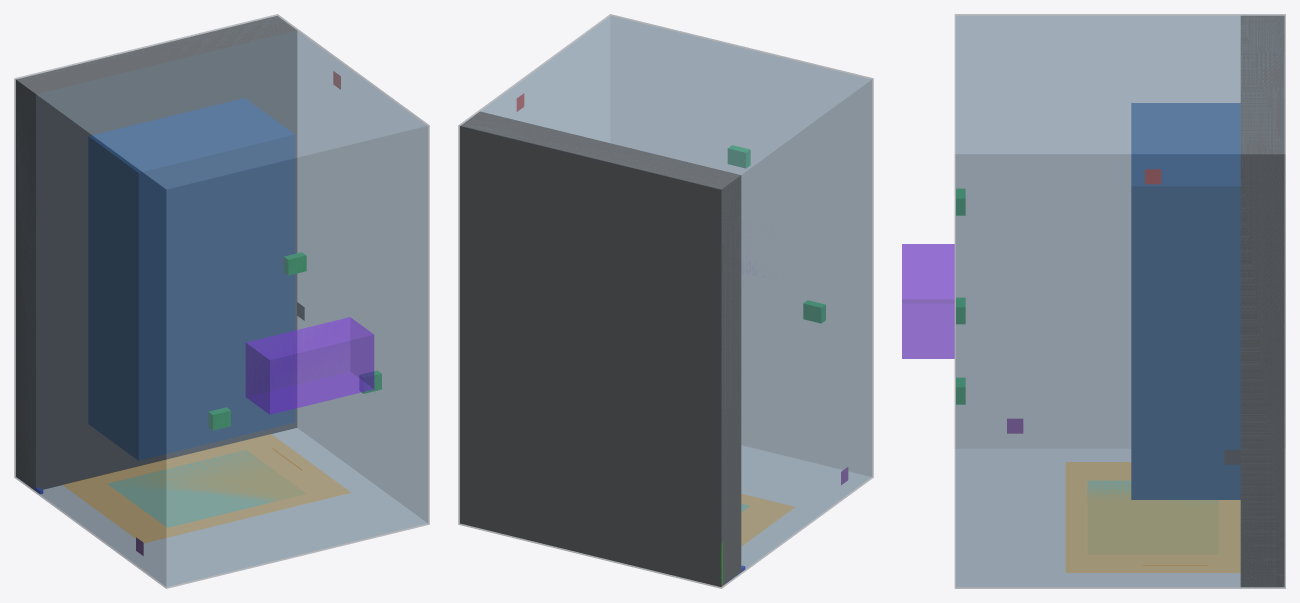
The model's file is chamber.obj.
The picture shows the model from 3 angles, left to right: view 1: azimuth 30°, elevation 25°; view 2: azimuth 150°, elevation 25°; view 3: azimuth 270°, elevation 25°; orthographic projection. The views are drawn at different scales.
Visible parts, largest first — view 1: outer_enclosure_shell, internal_effective_volume_surface, pack_01, floor_support_frame_concept, door_opening, electrical_envelope_exterior, viewing_window_fixed; view 2: outer_enclosure_shell, floor_support_frame_concept, internal_effective_volume_surface, door_opening; view 3: outer_enclosure_shell, internal_effective_volume_surface, pack_01, floor_support_frame_concept, door_opening, electrical_envelope_exterior, viewing_window_fixed.
Part boxes in pixels (bbox=[...]): outer_enclosure_shell: bbox=[14, 14, 429, 588]; internal_effective_volume_surface: bbox=[40, 31, 427, 586]; pack_01: bbox=[88, 98, 295, 460]; floor_support_frame_concept: bbox=[16, 16, 297, 490]; door_opening: bbox=[63, 434, 350, 542]; electrical_envelope_exterior: bbox=[245, 317, 374, 414]; viewing_window_fixed: bbox=[108, 450, 282, 527]; outer_enclosure_shell: bbox=[458, 14, 873, 588]; floor_support_frame_concept: bbox=[460, 111, 741, 586]; internal_effective_volume_surface: bbox=[481, 16, 871, 568]; door_opening: bbox=[741, 494, 794, 545]; outer_enclosure_shell: bbox=[954, 14, 1285, 588]; internal_effective_volume_surface: bbox=[956, 16, 1240, 586]; pack_01: bbox=[1131, 103, 1240, 499]; floor_support_frame_concept: bbox=[1240, 15, 1284, 587]; door_opening: bbox=[1066, 462, 1240, 572]; electrical_envelope_exterior: bbox=[902, 244, 954, 358]; viewing_window_fixed: bbox=[1087, 481, 1217, 505].
Bounding box in the file's own units: 756 × 1096 × 876.
